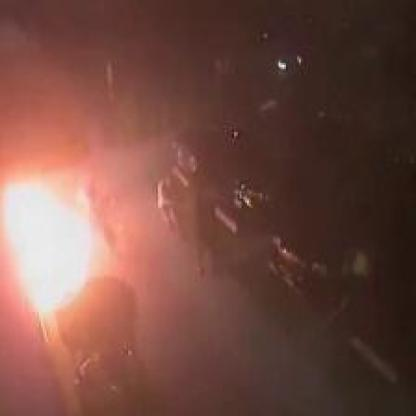fire: (2, 166, 108, 322)
